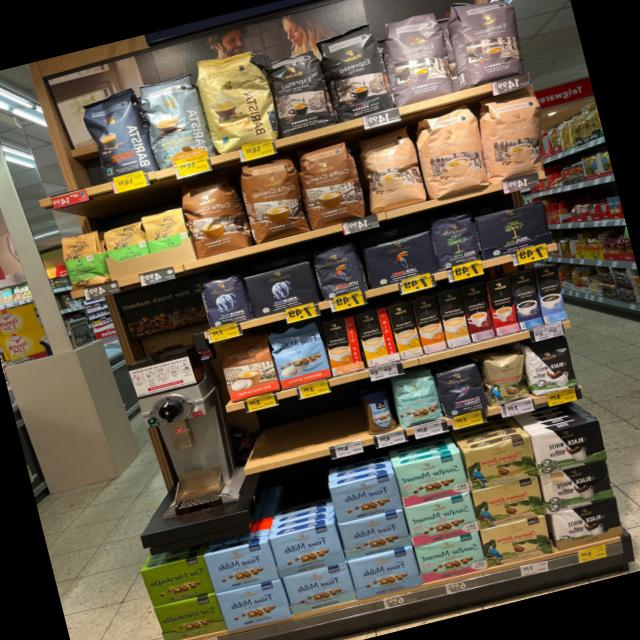AB Bohne: (196, 270, 254, 331)
AB Gemahlen: (244, 258, 322, 318)
Athiopien Bohne: (56, 226, 114, 292)
BM Bohne: (426, 210, 486, 272)
BW Bohne: (520, 334, 580, 398)
BW Gemahlen: (470, 199, 556, 260), (528, 417, 610, 475), (535, 458, 614, 515), (548, 494, 626, 551)
Barista CB: (190, 43, 286, 158)
Barista CC: (135, 70, 217, 173)
Barista Espresso: (78, 85, 160, 186)
C Fino Bohne: (432, 360, 492, 420)
CC Mild: (470, 84, 557, 185), (408, 100, 494, 202), (352, 122, 431, 216)
CC Vollmundig: (214, 328, 282, 404)
CC Vollmundig 36 Pads: (234, 152, 314, 246), (292, 137, 371, 232), (178, 171, 254, 261)
Colombia BB Bohne: (477, 347, 538, 408)
Colombia BB Gemahlen: (468, 474, 548, 532), (460, 434, 540, 492), (478, 514, 556, 568)
Empty Shelf: (244, 393, 363, 463), (26, 99, 96, 195), (261, 486, 336, 538)
Espresso Kraftig: (313, 20, 400, 126)
Espresso M Art: (374, 7, 461, 109), (437, 0, 532, 91)
Espresso S Art: (262, 47, 338, 140)
FM 36 Pads: (266, 318, 332, 391)
FM Gemahlen: (268, 522, 346, 578), (214, 577, 292, 632), (347, 546, 422, 602), (203, 539, 278, 594), (282, 560, 356, 615), (328, 470, 403, 524), (336, 508, 413, 560)
FM Instant: (356, 382, 400, 438)
Herzhatfe Mundig: (139, 554, 215, 608), (154, 592, 228, 640)
LG Bohne: (309, 238, 372, 302)
LG Gemahlen: (359, 228, 442, 290)
SM Bohne: (385, 366, 445, 430)
SM Gemahlen: (392, 451, 470, 509), (402, 491, 480, 546), (412, 530, 488, 584)
Simo CCMild: (354, 306, 399, 368)
Simo CCMild bigpack: (386, 300, 424, 359)
Simo CCVollmundig: (318, 313, 365, 377)
Simo CCVollmundig bigpack: (411, 294, 448, 355)
Simo Decaff: (434, 286, 473, 348)
Simo Es Elegant: (457, 281, 495, 343), (485, 276, 520, 335)
Simo Kaffee Kraft: (509, 269, 543, 330)
Simo Kaffee Mild: (533, 263, 568, 325)
